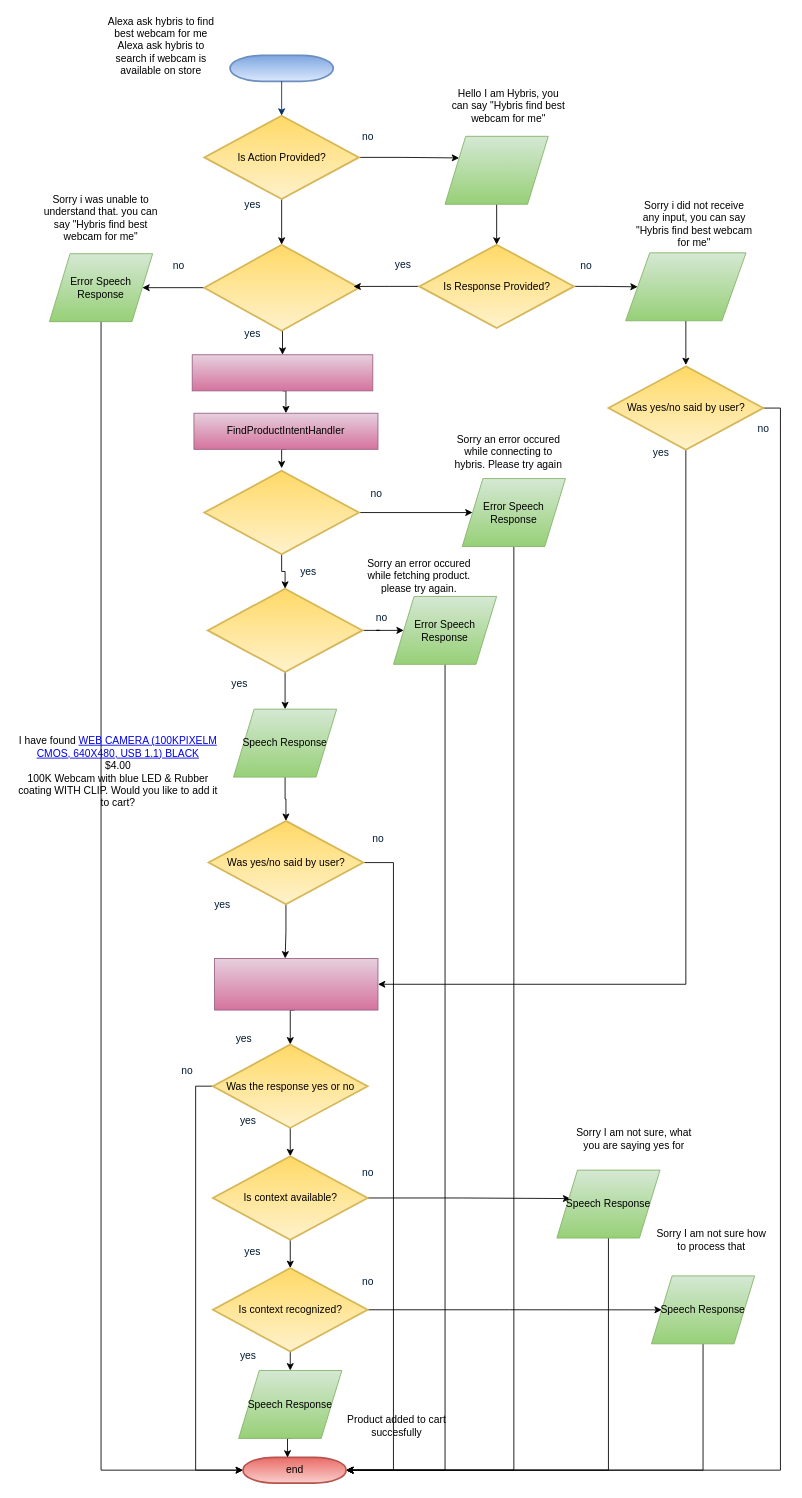
Some shapes in this 802 by 1498 pixel diagram are drawn without their labels. Here are the shapes that lost their labels. From the top down, the centre of each, then its label:
At (x=281, y=68): "Skill Initialization".
At (x=496, y=169): "Default Speech Response".
At (x=281, y=287): "Is Action Handled?".
At (x=685, y=286): "Reprompt Speech Response".
At (x=282, y=372): "Send Data to Lambda Function".
At (x=281, y=512): "Was Lambda Function able to interact with Hybris?".
At (x=284, y=630): "Did Hybris provide valid response?".
At (x=296, y=984): "Yes/No Response".
